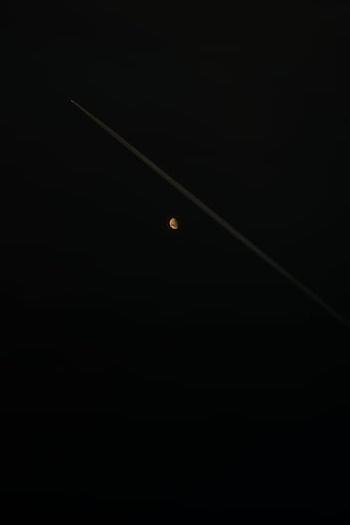Plane: (62, 91, 130, 145)
